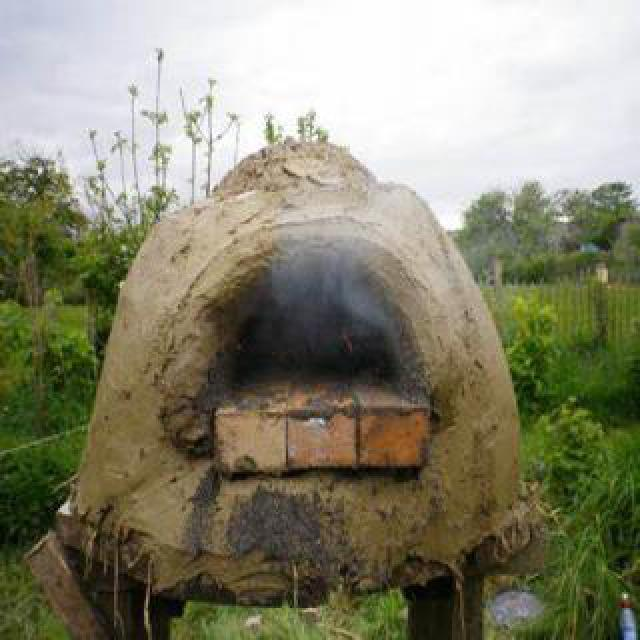Fire: (254, 208, 404, 368)
